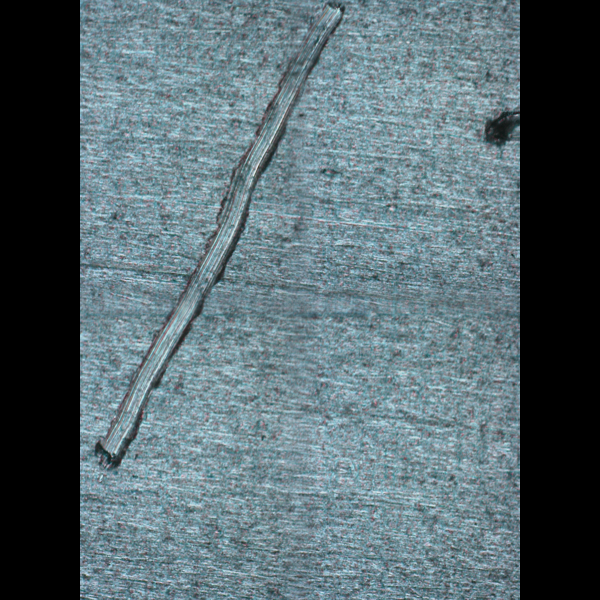d: (92, 0, 349, 476)
